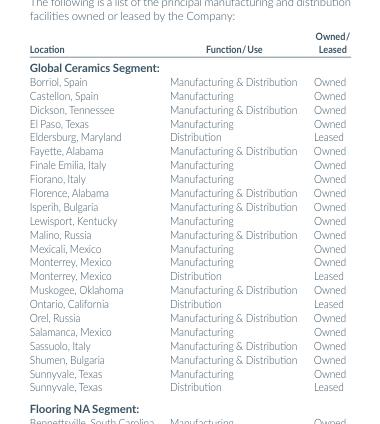table: (28, 29, 349, 392)
table column: (147, 29, 305, 392), (28, 29, 147, 392), (305, 29, 349, 392)
table column header: (28, 29, 349, 56)
table projected row header: (28, 56, 349, 73)
table row: (28, 29, 349, 56), (28, 56, 349, 73), (28, 73, 349, 87), (28, 87, 349, 101), (28, 101, 349, 115), (28, 115, 349, 129), (28, 142, 349, 156), (28, 156, 349, 170), (28, 170, 349, 184), (28, 184, 349, 198), (28, 198, 349, 212), (28, 212, 349, 226), (28, 226, 349, 240), (28, 240, 349, 254), (28, 267, 349, 281), (28, 281, 349, 295), (28, 295, 349, 309), (28, 309, 349, 323), (28, 323, 349, 337), (28, 337, 349, 351), (28, 351, 349, 365), (28, 365, 349, 379), (28, 129, 349, 142), (28, 254, 349, 267), (28, 379, 349, 392)
